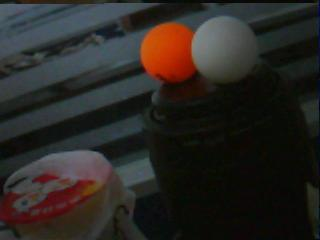oball: (139, 22, 195, 84)
